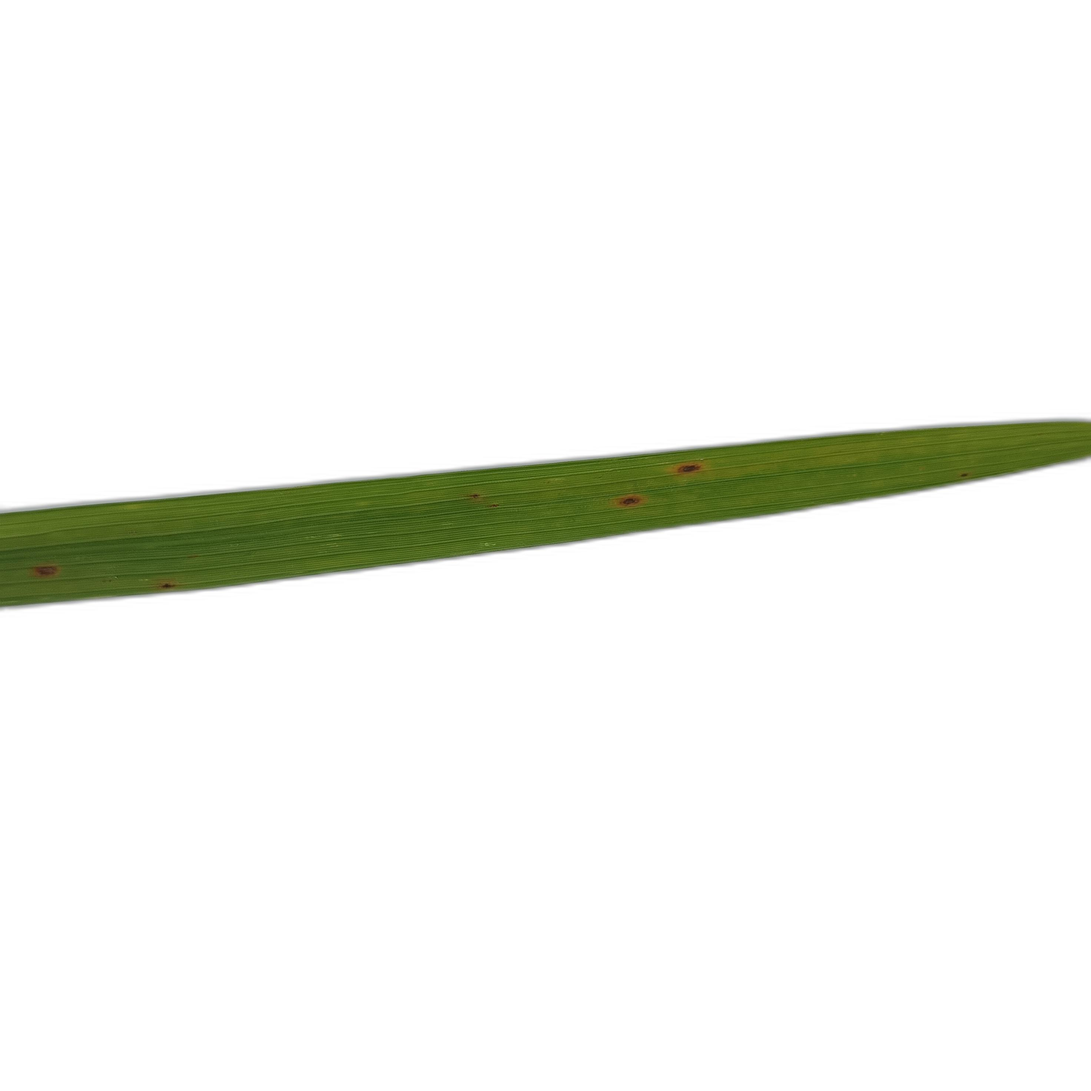LEAF BLAST: (665, 461, 704, 476), (612, 494, 649, 508), (33, 566, 59, 577)
